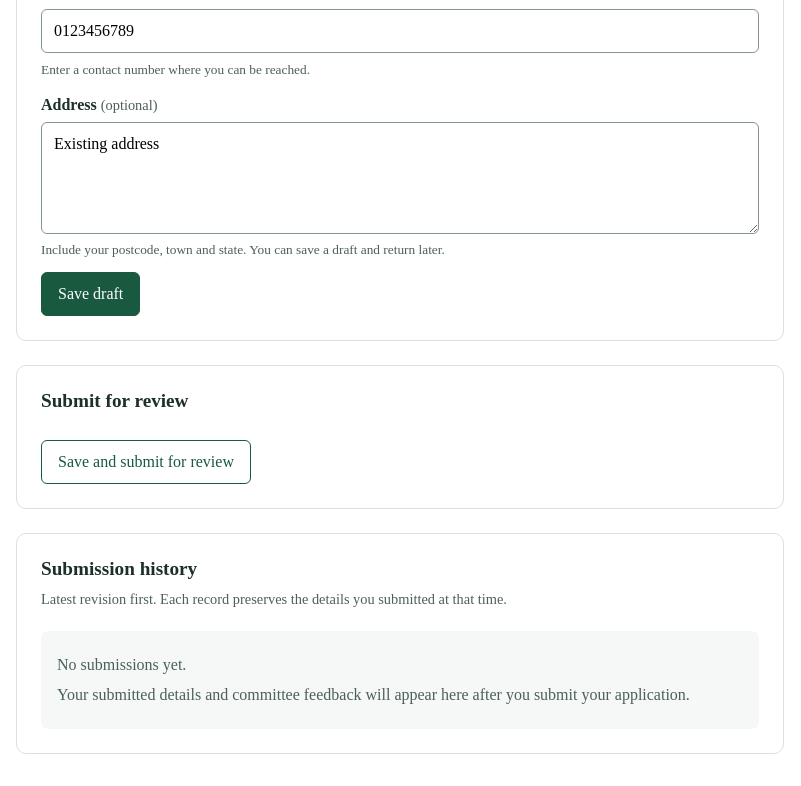
application submission › rechecks verification before saving or submitting
(page scrolled)
Click the button "Save and submit for review" at (146, 462), box [41,440,251,484]
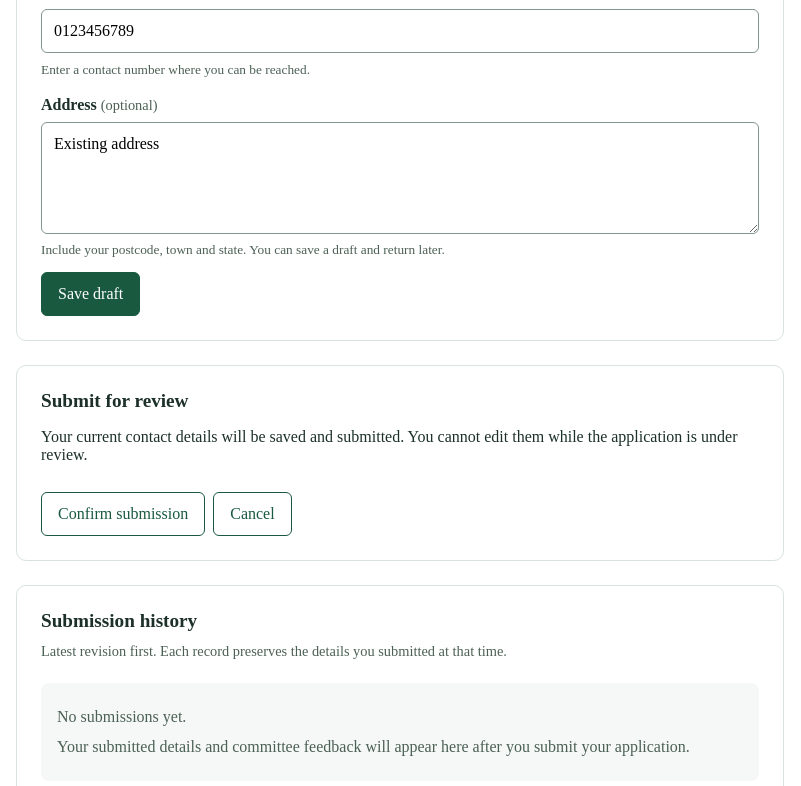
Click the button "Confirm submission" at (123, 514), box [41,492,205,536]
(page scrolled)
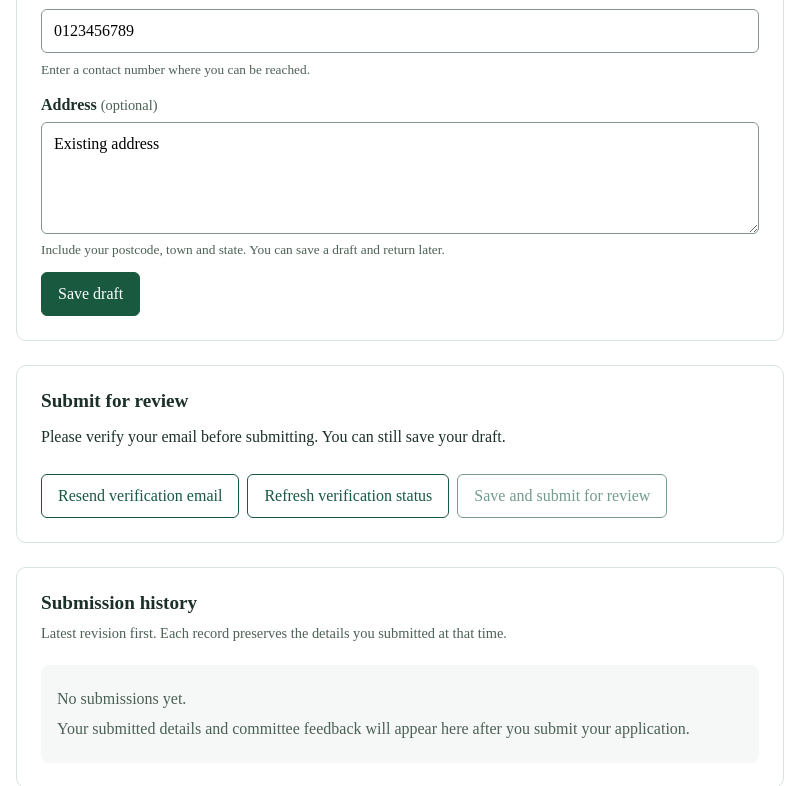
Now the text "Please verify your email before submitting." is shown, box [41,428,506,445]
